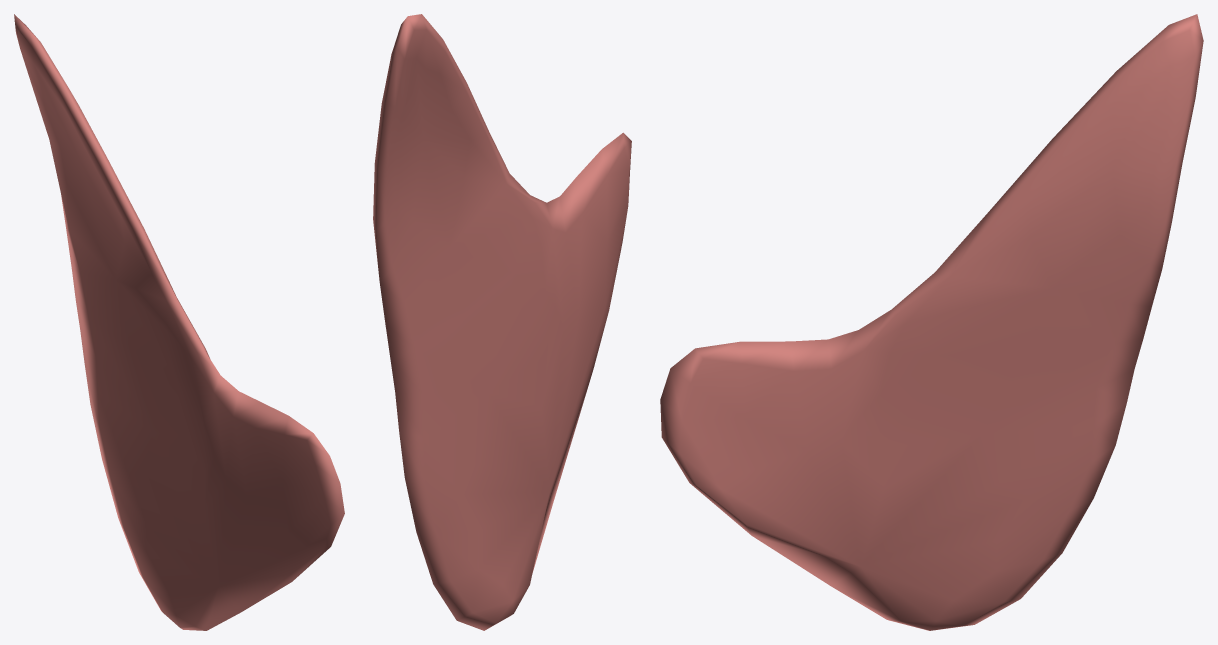
The picture shows the model from 3 angles, left to right: view 1: azimuth 30°, elevation 25°; view 2: azimuth 150°, elevation 25°; view 3: azimuth 270°, elevation 25°; orthographic projection. The views are drawn at different scales.
Parts seen in each view (by area): view 1: ZA_f31f889009e548cf; view 2: ZA_f31f889009e548cf; view 3: ZA_f31f889009e548cf.
Boxes of the visible parts, box(x1,y1,x2,y2) form: ZA_f31f889009e548cf: box(14, 14, 344, 630); ZA_f31f889009e548cf: box(373, 14, 631, 630); ZA_f31f889009e548cf: box(660, 14, 1203, 630).
Size of the model in its own units: 0.00317 by 0.0182 by 0.0152.
